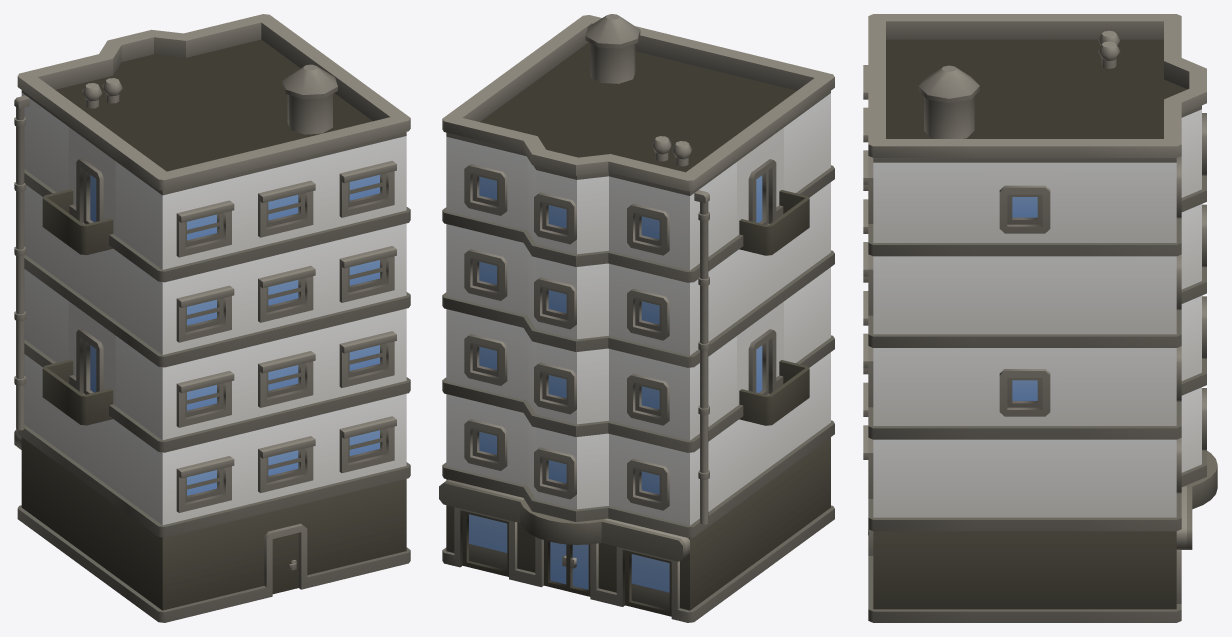
Rendered from com-building-l.glb.
3 views of the same model, side by side, from view 1: azimuth 30°, elevation 25°; view 2: azimuth 150°, elevation 25°; view 3: azimuth 270°, elevation 25° (orthographic). The views are drawn at different scales.
Parts seen in each view (by area): view 1: building-l; view 2: building-l; view 3: building-l.
Boxes of the visible parts, x1=… form: building-l: x1=14, y1=14, x2=410, y2=622; building-l: x1=439, y1=14, x2=834, y2=622; building-l: x1=863, y1=14, x2=1217, y2=622.
Bounding box in the file's own units: 1.37 × 2.27 × 1.4.
Materials: 1 (1 with a texture image).
